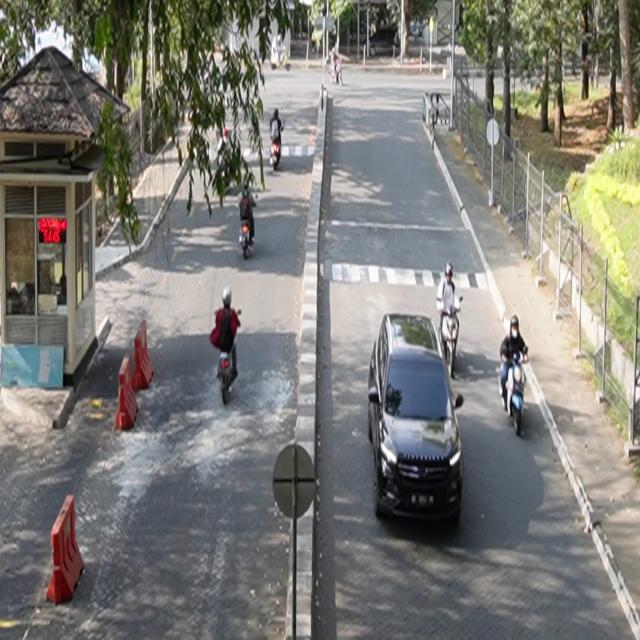car: (368, 313, 465, 526)
